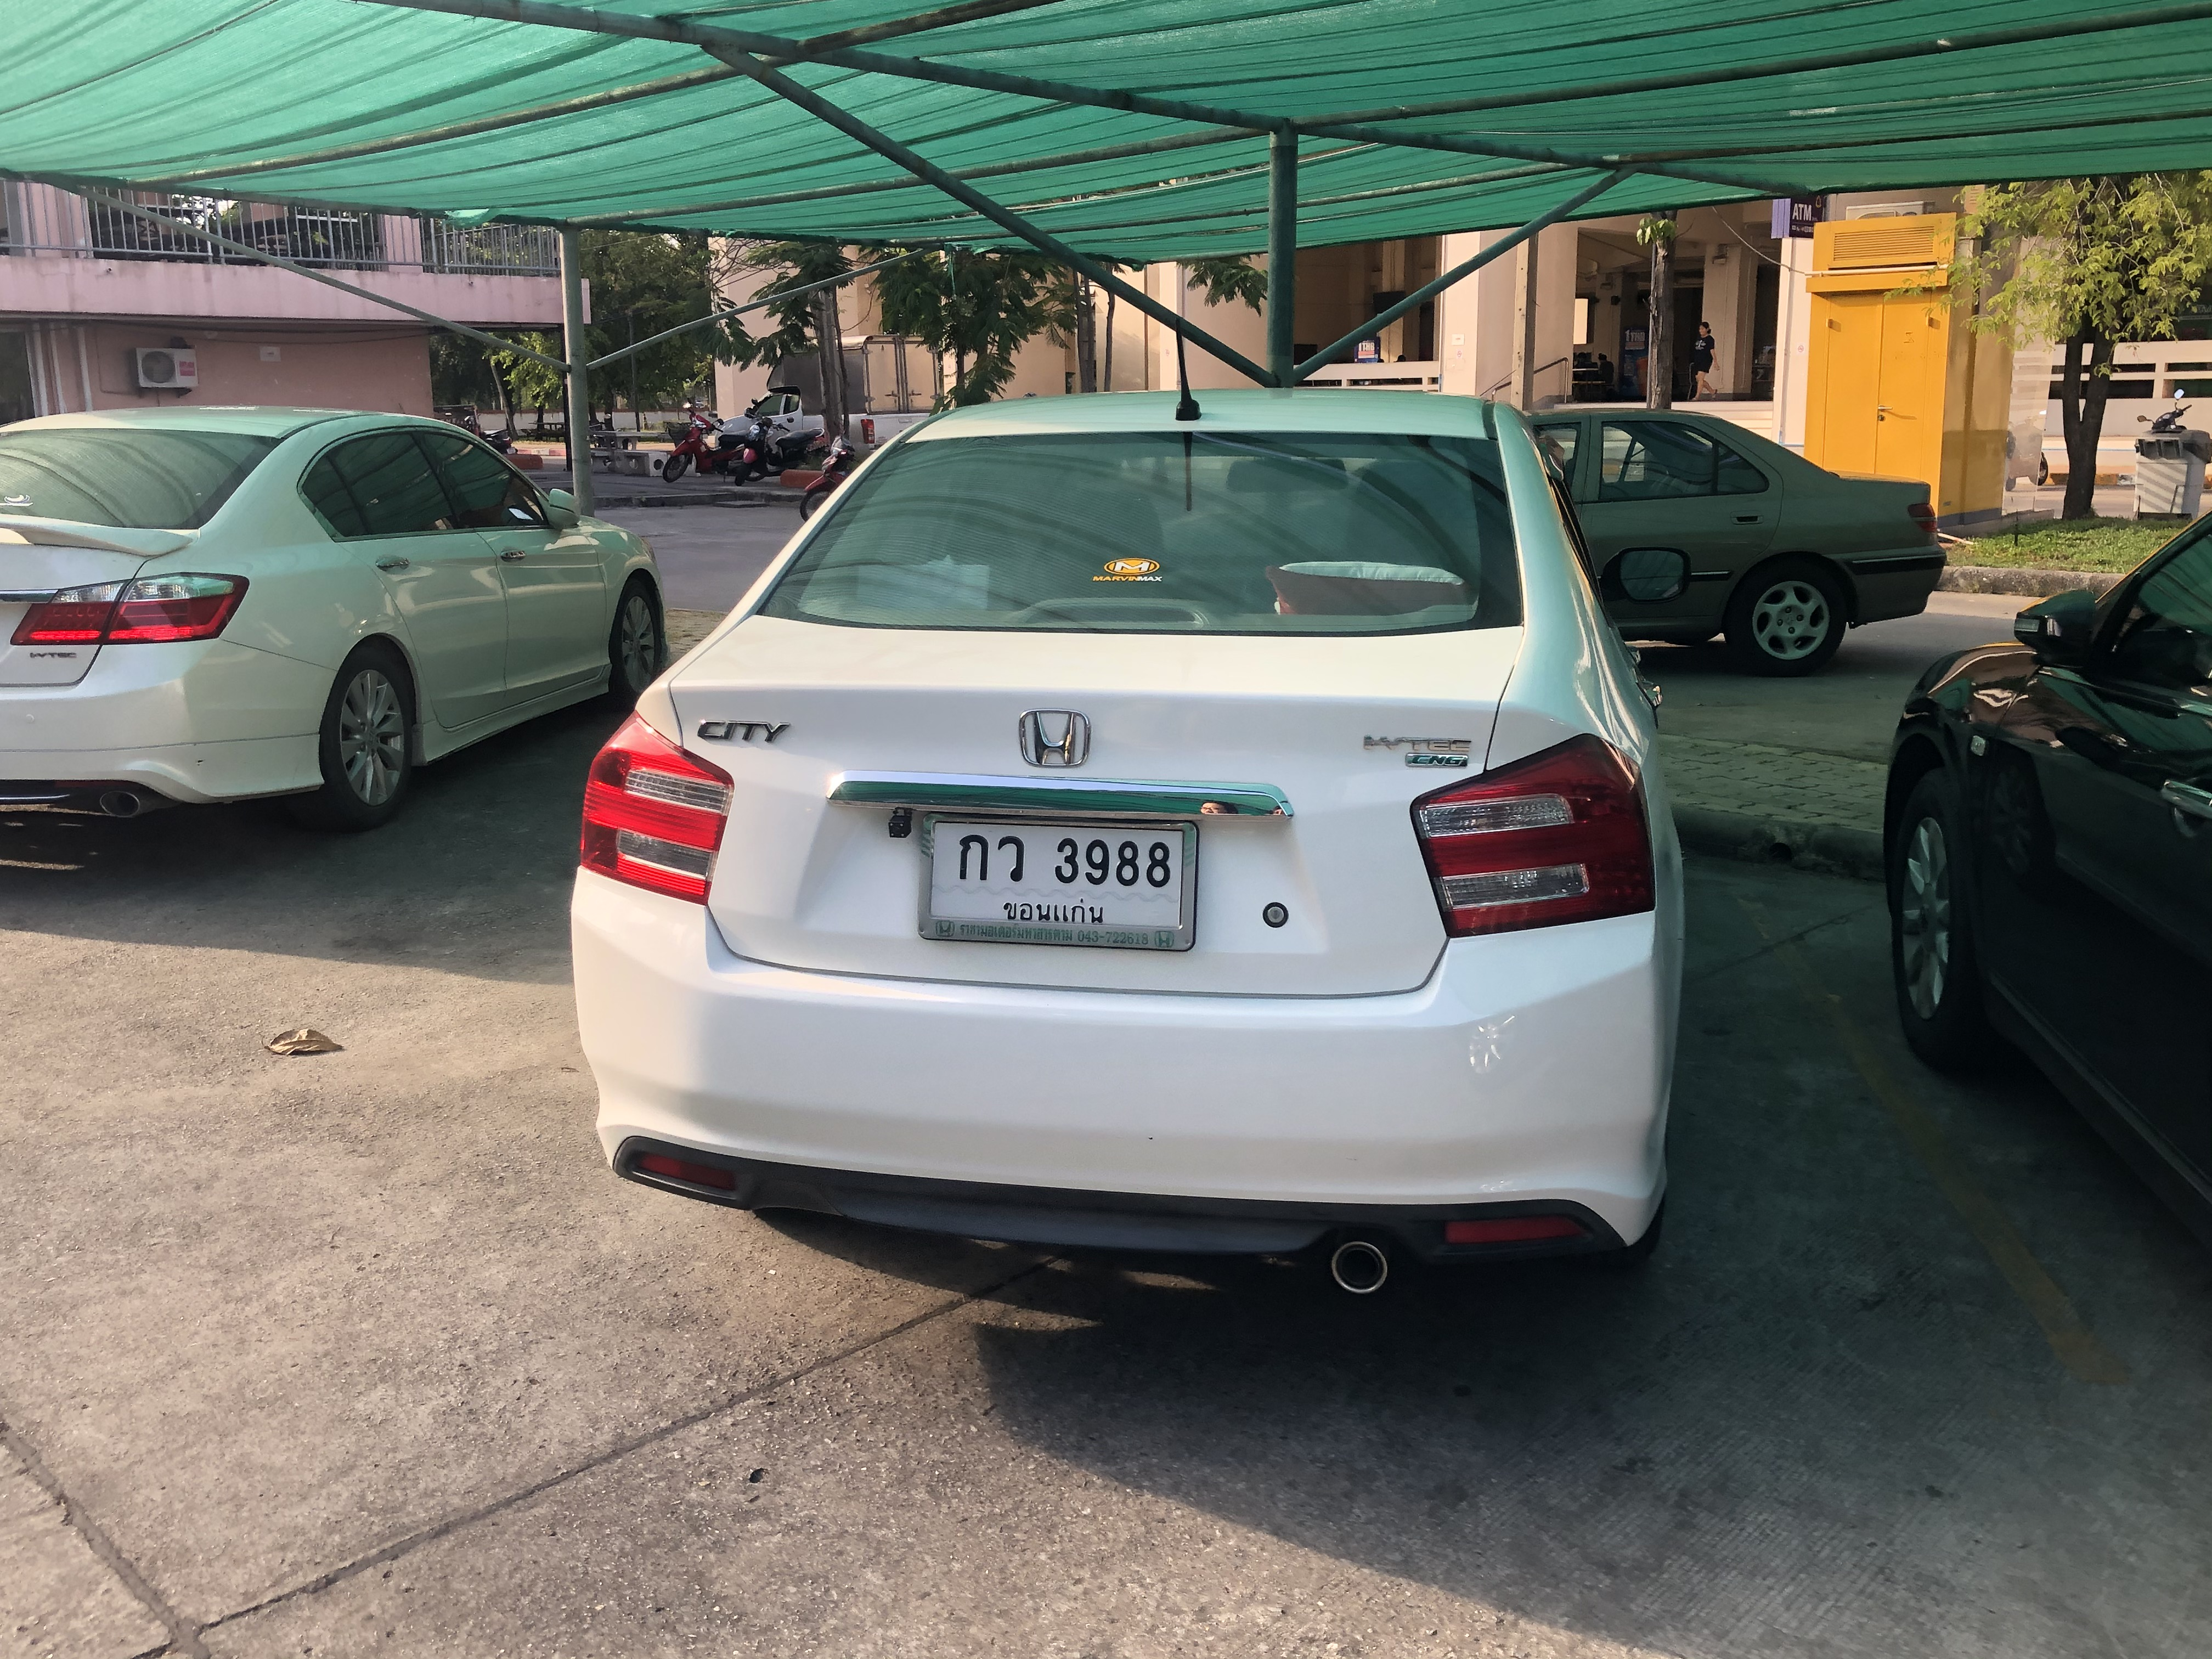in: (935, 824, 1184, 931)
out: (918, 814, 1200, 955)
